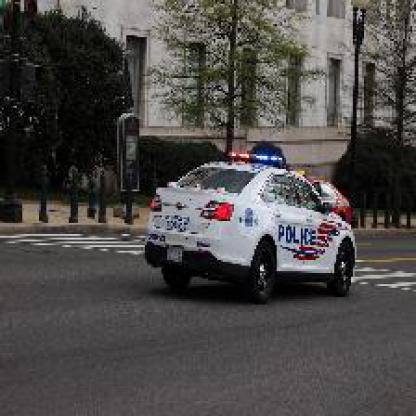emergency: (128, 147, 383, 327)
